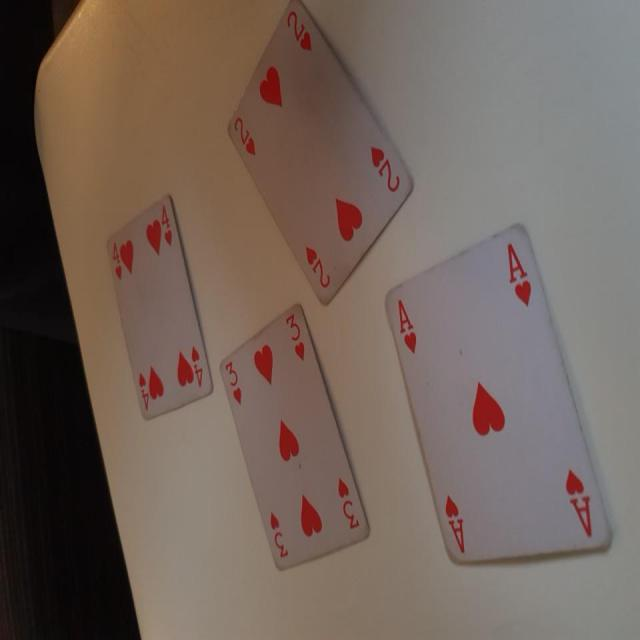2 of hearts: (222, 9, 422, 312)
3 of hearts: (211, 298, 375, 577)
4 of hearts: (103, 187, 217, 422)
ace of hearts: (382, 216, 616, 588)
